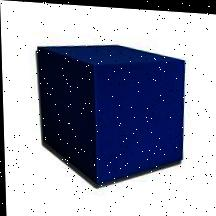cube: (35, 37, 186, 188)
